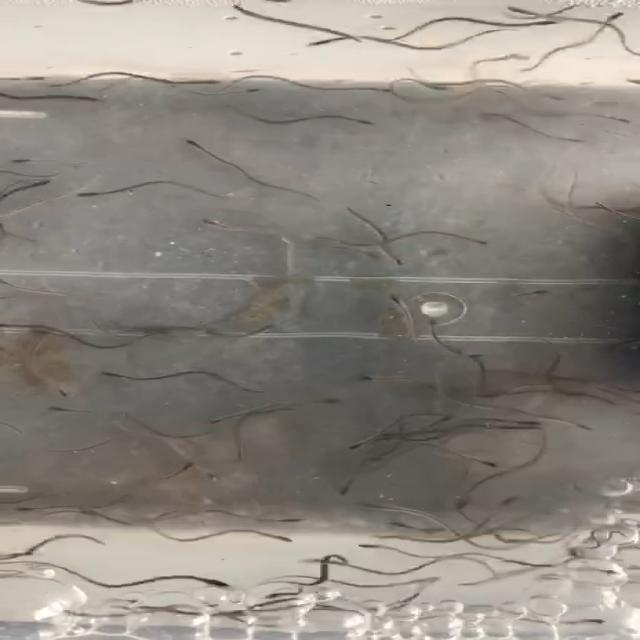active_glass_eel: (350, 500, 404, 519), (334, 476, 368, 502), (190, 575, 239, 593), (449, 492, 487, 514), (502, 412, 553, 428), (251, 530, 301, 546), (74, 185, 123, 201), (39, 381, 80, 400), (262, 509, 305, 527), (3, 500, 54, 515), (197, 216, 239, 234), (562, 417, 604, 435), (162, 458, 196, 480), (298, 34, 343, 50), (375, 292, 411, 312), (245, 318, 281, 338), (519, 19, 569, 33), (192, 413, 242, 427), (334, 113, 377, 129), (92, 367, 137, 382), (568, 617, 610, 633), (176, 136, 210, 155), (556, 133, 590, 152), (227, 86, 270, 101), (498, 4, 547, 17), (357, 83, 399, 98), (496, 495, 526, 516), (372, 532, 416, 546), (351, 540, 392, 555), (15, 68, 53, 84), (306, 392, 346, 407), (377, 246, 403, 269), (520, 284, 551, 303), (12, 179, 57, 192), (68, 92, 104, 108), (422, 315, 447, 338), (0, 154, 40, 168), (468, 457, 510, 470), (190, 467, 220, 485), (611, 114, 640, 132), (452, 233, 492, 246), (538, 89, 570, 105), (43, 404, 74, 420), (598, 9, 626, 26), (423, 79, 454, 94), (354, 372, 396, 383), (345, 433, 370, 450), (195, 73, 227, 86)
